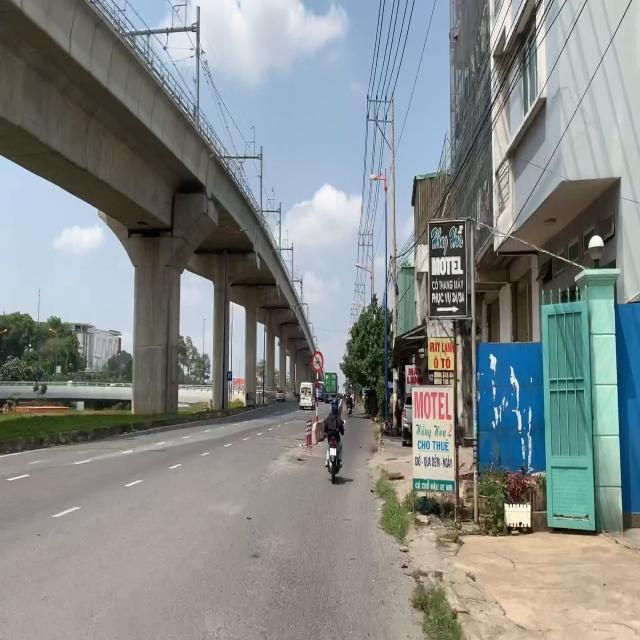Cam con lai: (312, 352, 323, 372)
Hieu lenh: (227, 371, 232, 381)
